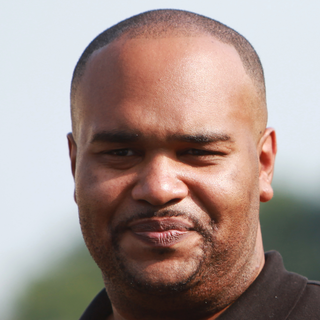eye: (176, 142, 230, 166), (95, 142, 144, 166)
